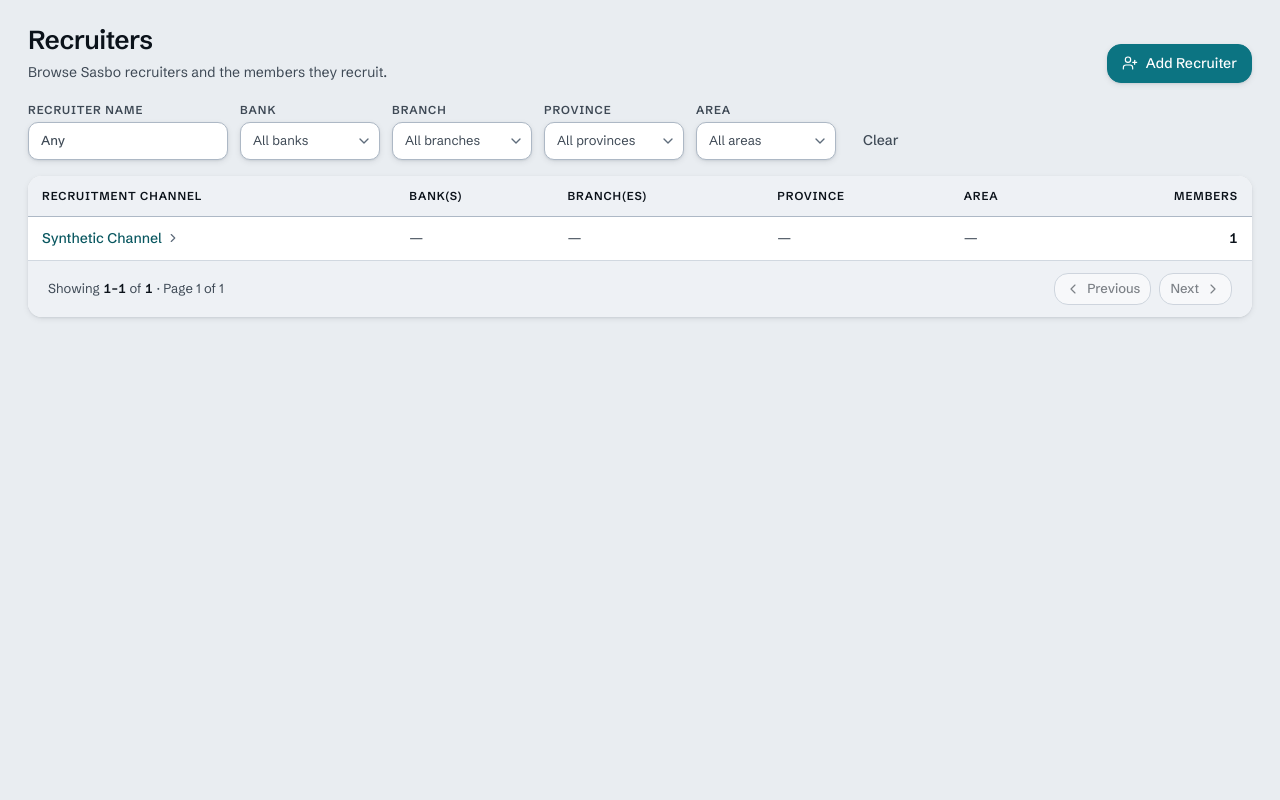
Test case: Recruiters › ⑤ who recruited a member › reads the recruiter the API names -- not a dash for every member
Click the button with aria-label "Synthetic Channel — show the members recruited" at (111, 238), box [42,228,180,248]
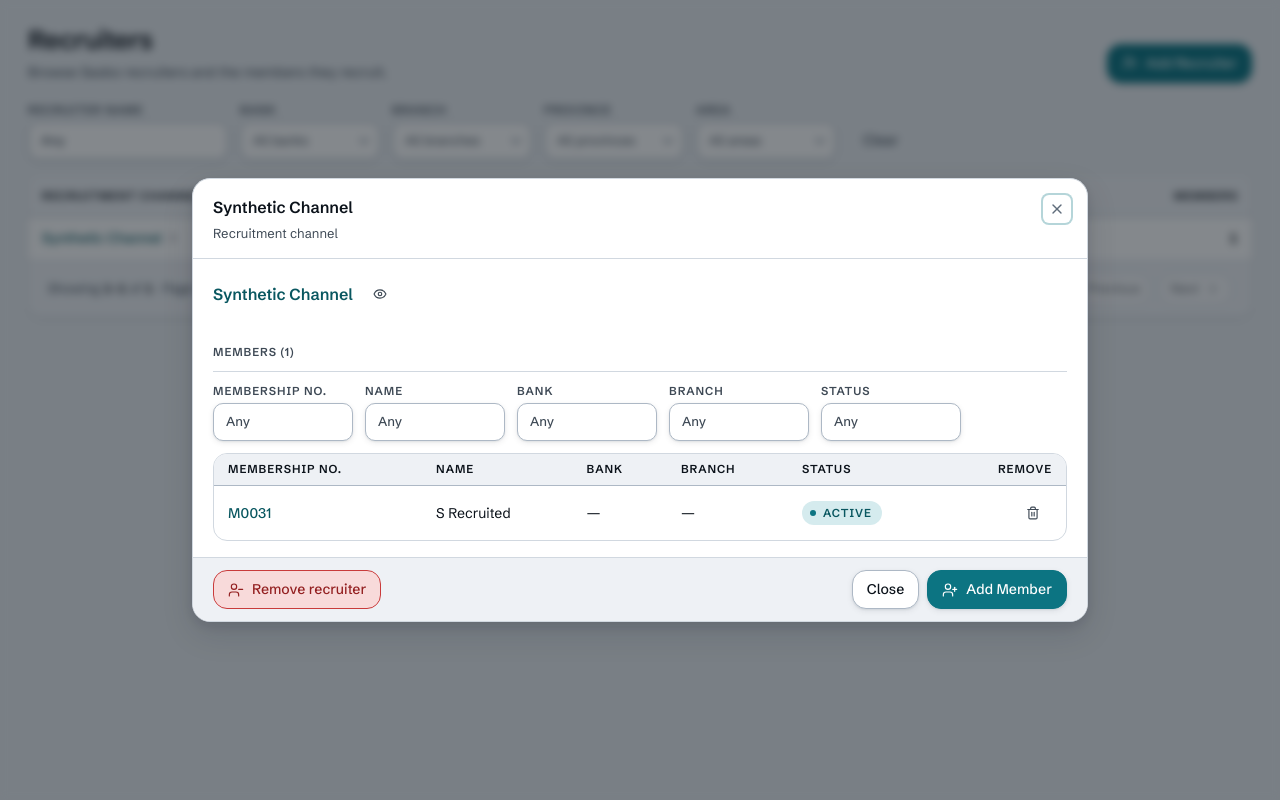
Click the button named "M0031 — open the record for" at (250, 513), box [228,503,271,524]
(page scrolled)
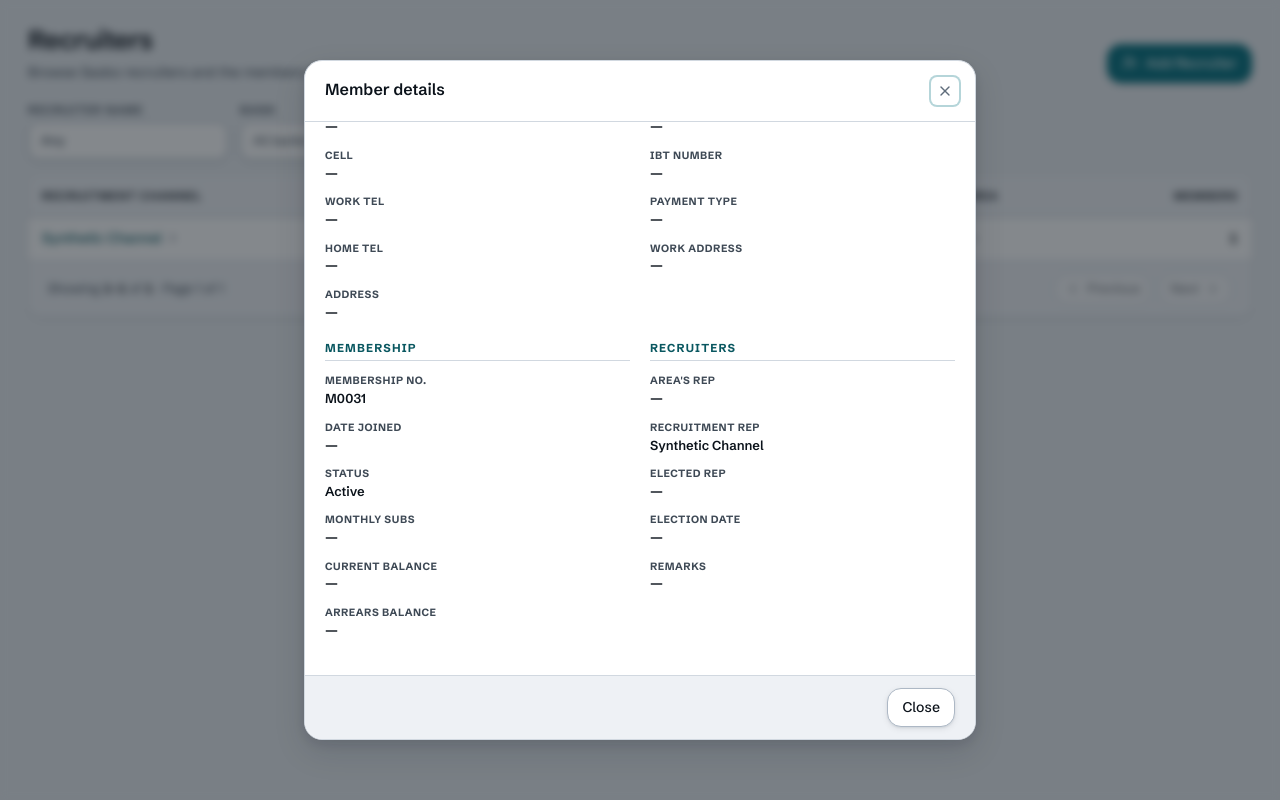
Now the text "Synthetic Channel" is shown, box [650,436,764,452]
Now the text "—" below "Remarks" is shown, box [650,576,663,592]
